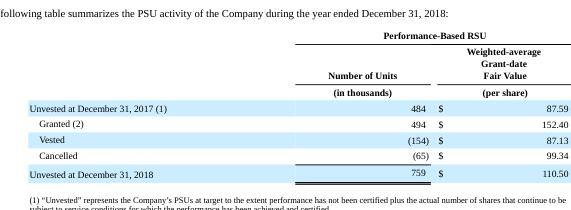table: (28, 28, 540, 179)
table column: (28, 28, 246, 179), (246, 28, 432, 179), (432, 28, 540, 179)
table column header: (28, 28, 540, 99)
table row: (28, 42, 540, 99), (28, 146, 540, 163), (28, 114, 540, 130), (28, 130, 540, 146), (28, 163, 540, 179), (28, 99, 540, 114), (28, 28, 540, 42)
table spanning cell: (246, 28, 540, 42)
